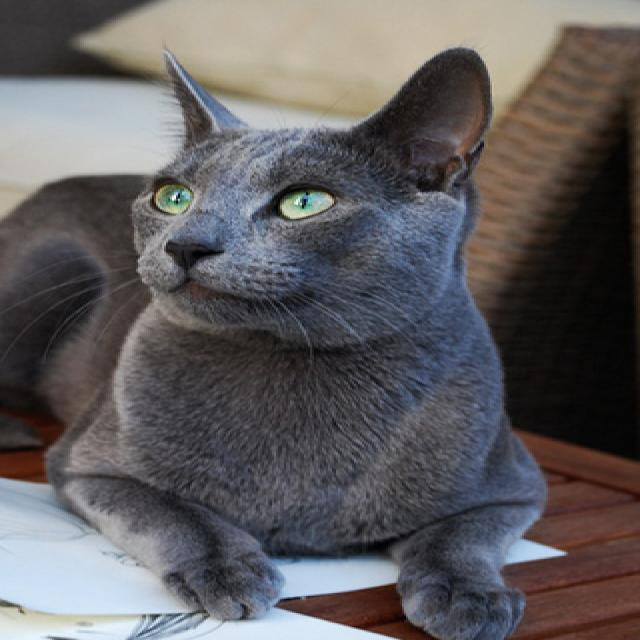Russian Blue: (0, 40, 554, 640)
